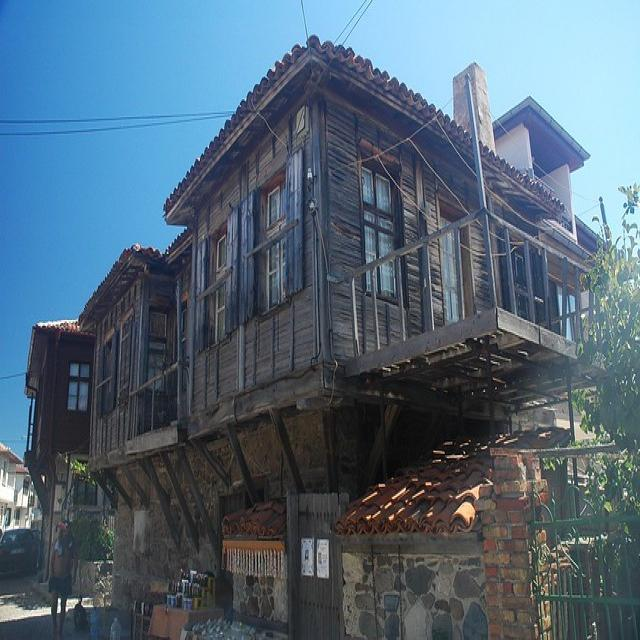Normal_building: (21, 28, 608, 626)
